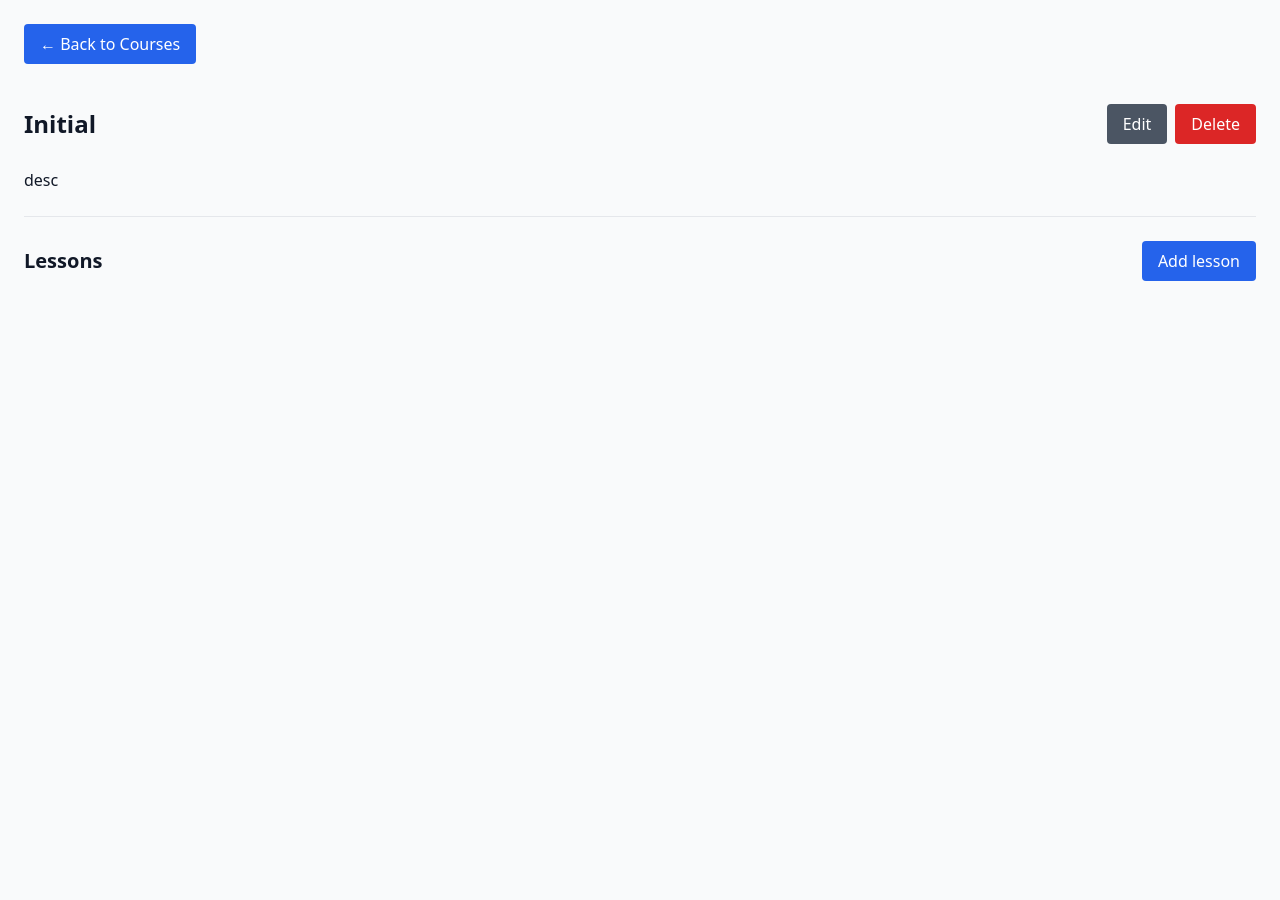
Test: muestra info y permite actualizar título
This screenshot has width=1280, height=900.
Check: the heading "Initial" is shown, box [24,108,96,140]
Step 1. Click the button "Edit" → (1137, 124), box [1107,104,1167,144]
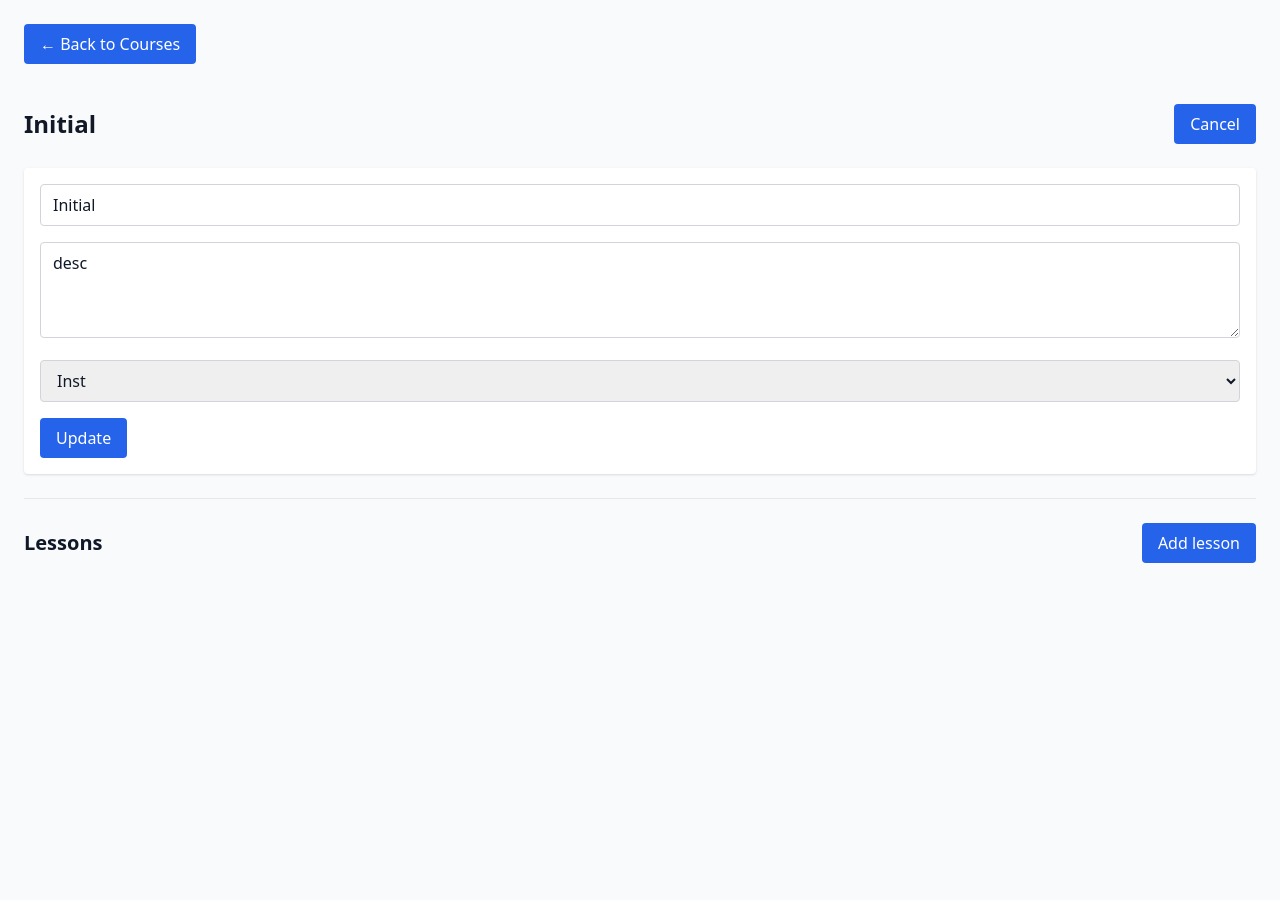
Step 2. Replace the text in the field with placeholder "Title" with "Updated!" → (640, 205), box [40,184,1240,226]
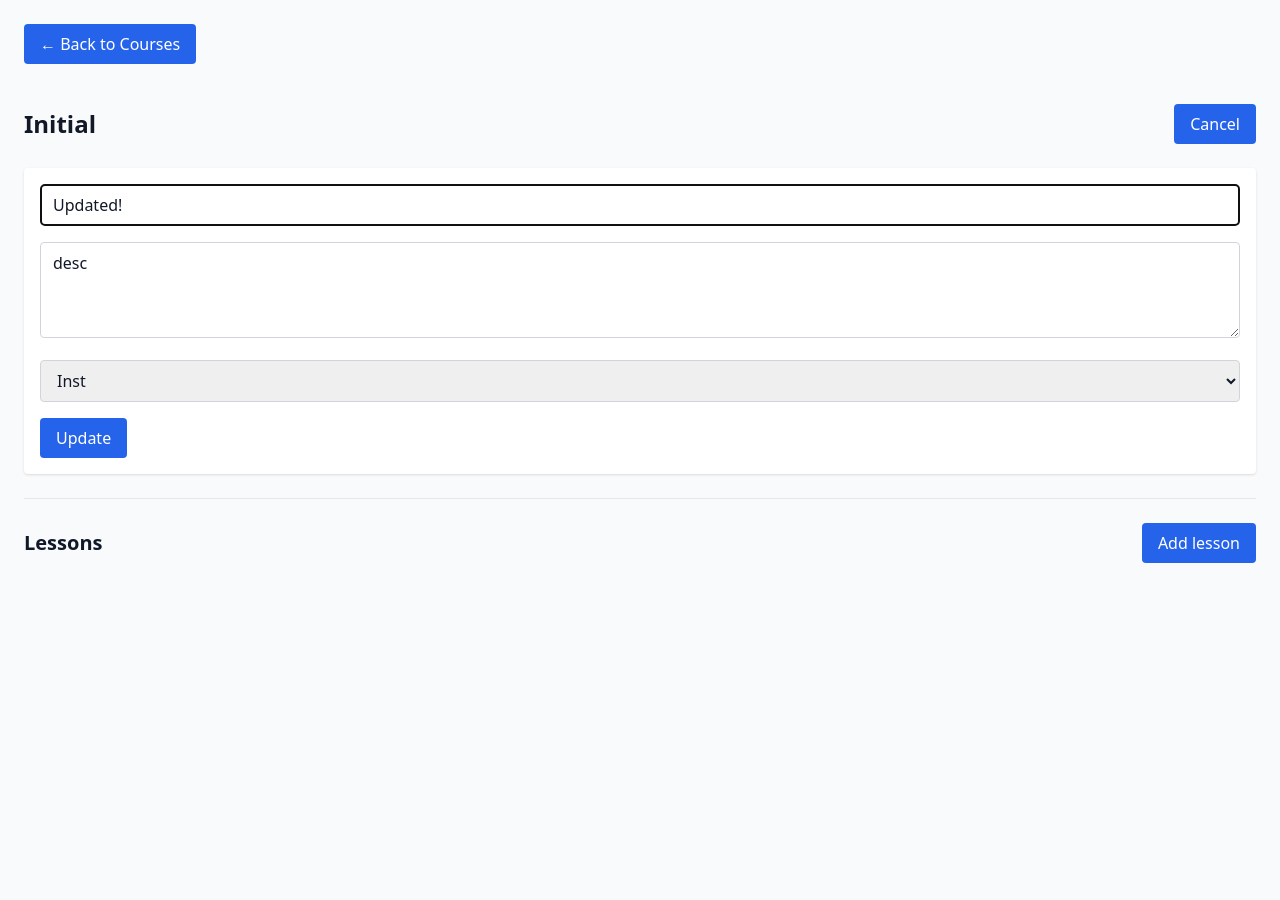
Step 3. Click the button "Update" → (84, 438), box [40,418,127,458]
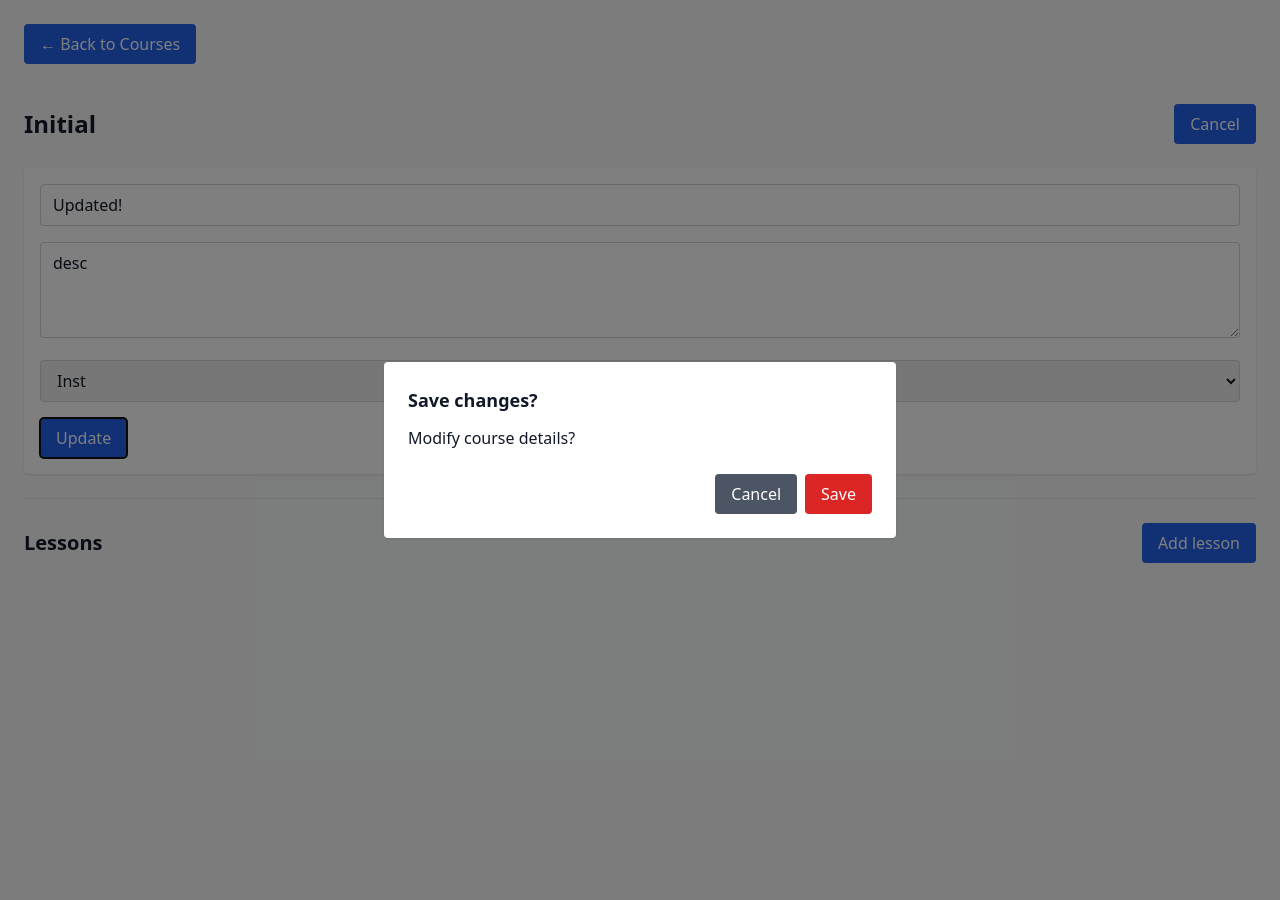
Step 4. Click the button "Save" → (839, 494), box [805,474,872,514]
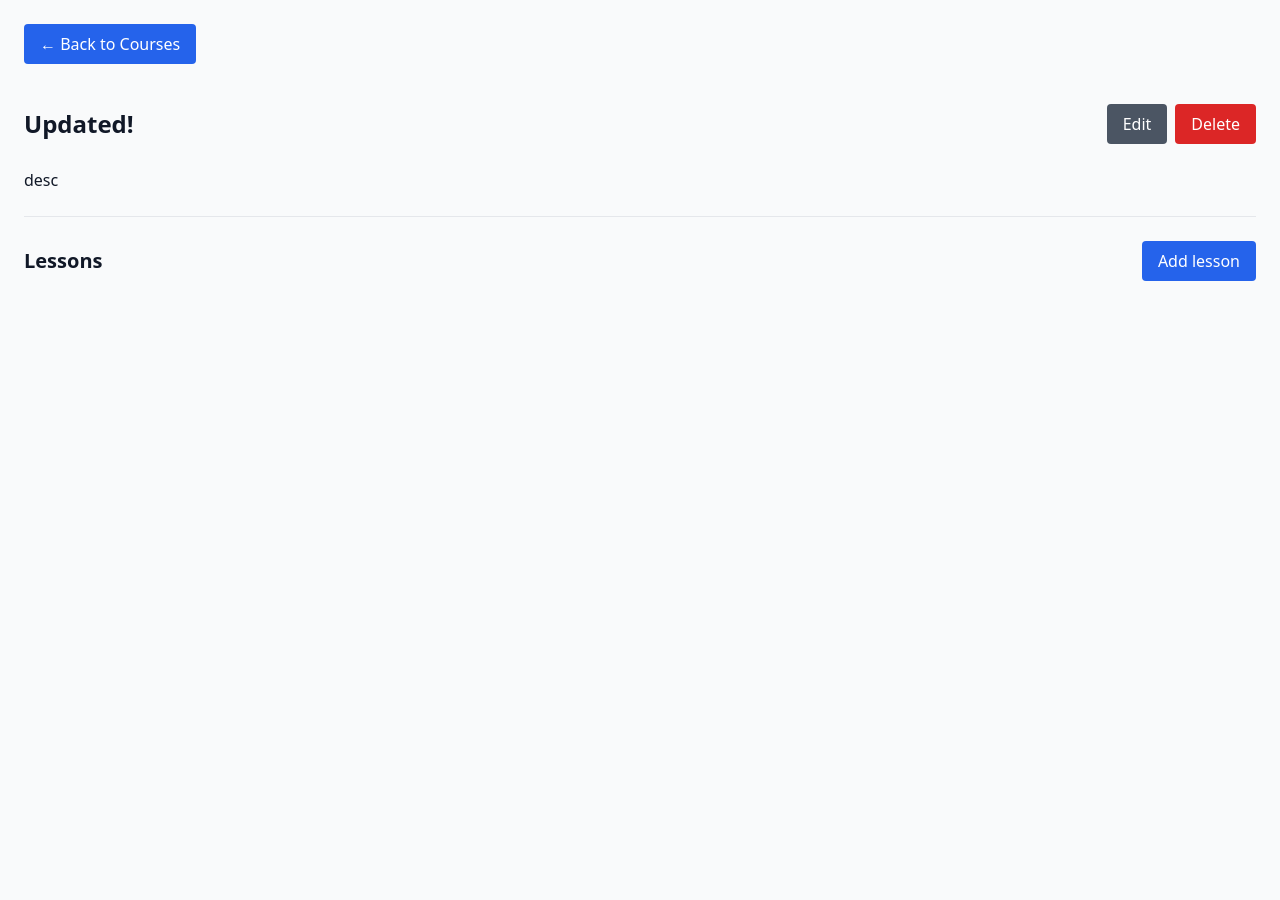
Check: the heading "Updated!" is shown, box [24,108,134,140]
